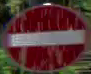No entry: (3, 4, 89, 73)
